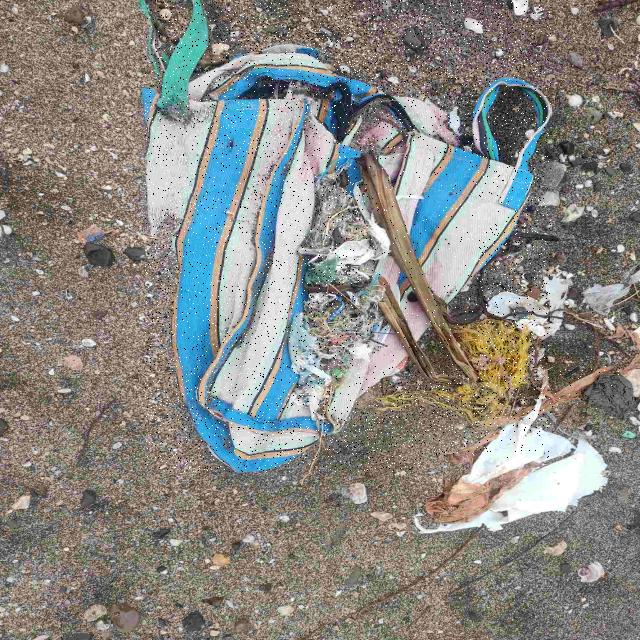biowaste: (362, 154, 477, 380), (387, 320, 533, 422), (425, 458, 560, 524), (381, 279, 451, 379), (544, 366, 620, 410)
plastic: (146, 0, 551, 472)
